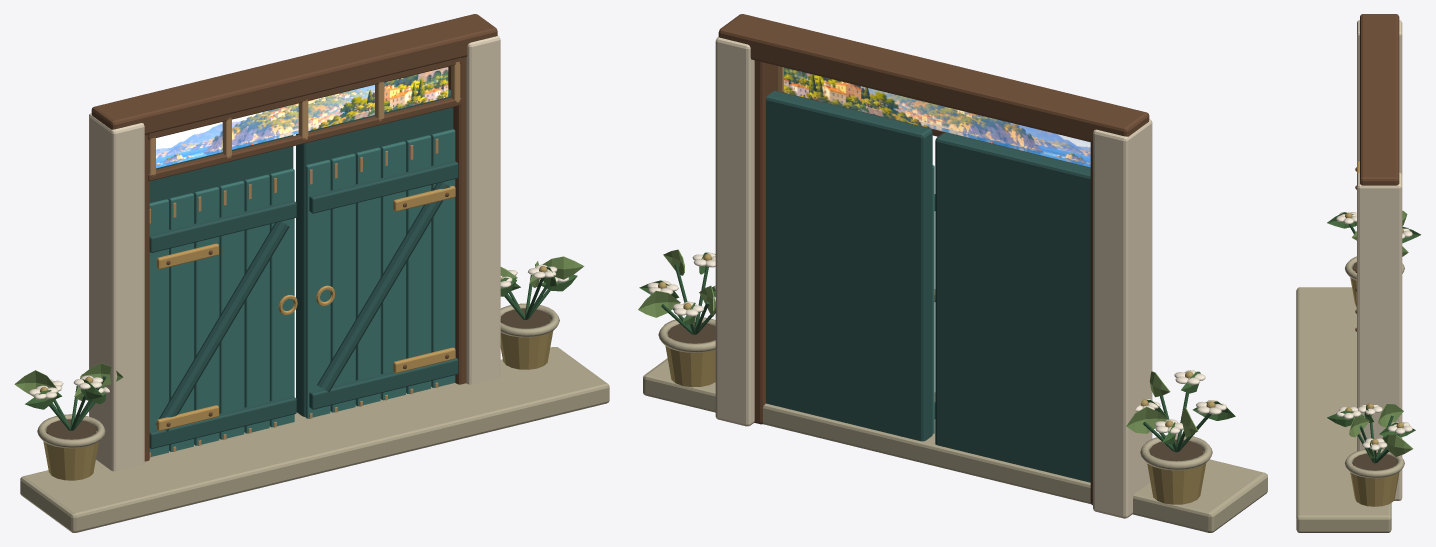
3 views of the same model, side by side, from view 1: azimuth 30°, elevation 25°; view 2: azimuth 150°, elevation 25°; view 3: azimuth 270°, elevation 25° (orthographic). The views are drawn at different scales.
Visible parts, largest first — view 1: door_leaf_e, door_leaf_w, workshop_ceramic, workshop_plaster, workshop_wood_dark, workshop_harbour, workshop_ochre, workshop_wood_edge, workshop_leaf_light, workshop_soil, workshop_leaf_dark, workshop_leaf (+1 smaller); view 2: door_leaf_e, door_leaf_w, workshop_plaster, workshop_wood_dark, workshop_ceramic, workshop_harbour, workshop_ochre, workshop_leaf_light, workshop_white, workshop_soil, workshop_leaf_dark, workshop_leaf; view 3: workshop_ceramic, workshop_plaster, workshop_wood_dark, workshop_ochre, workshop_leaf_light, workshop_white, workshop_leaf, workshop_soil, workshop_leaf_dark.
Boxes of the visible parts, x1,y1,x2,y2 form: door_leaf_e: (296,89,458,418); door_leaf_w: (149,135,297,457); workshop_ceramic: (20,303,609,532); workshop_plaster: (89,35,500,471); workshop_wood_dark: (91,14,497,461); workshop_harbour: (156,67,448,168); workshop_ochre: (40,266,553,480); workshop_wood_edge: (149,61,460,176); workshop_leaf_light: (14,256,584,400); workshop_soil: (46,308,550,439); workshop_leaf_dark: (39,275,550,430); workshop_leaf: (25,267,577,409); door_leaf_e: (766,90,935,441); door_leaf_w: (935,132,1090,482); workshop_plaster: (715,37,1152,518); workshop_wood_dark: (718,14,1149,505); workshop_ceramic: (643,317,1267,532); workshop_harbour: (784,67,1090,167); workshop_ochre: (658,254,1215,504); workshop_leaf_light: (638,249,1197,437); workshop_white: (647,252,1226,434); workshop_soil: (668,322,1203,461); workshop_leaf_dark: (661,264,1211,452); workshop_leaf: (639,252,1235,444); workshop_ceramic: (1296,256,1404,532); workshop_plaster: (1357,20,1402,500); workshop_wood_dark: (1360,14,1399,185); workshop_ochre: (1345,212,1403,506); workshop_leaf_light: (1349,210,1413,456); workshop_white: (1336,212,1412,450); workshop_leaf: (1327,212,1420,458); workshop_soil: (1352,262,1397,470); workshop_leaf_dark: (1348,224,1399,463).
Size of the model in its own units: 4.76 by 3 by 1.05.
Materials: 14 (1 with a texture image).
